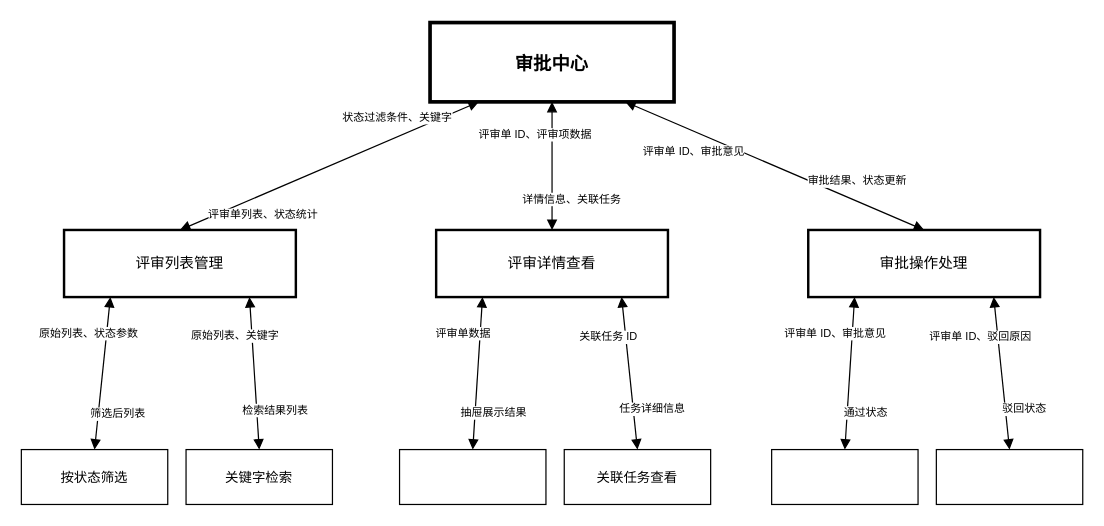
This 1104x526 diagram has some shape labels left out. The shapes that lost their labels are listed below. From the top down, each one's centre as x and y in pixels, then its label:
(472,476): 详情抽屉展示
(844,476): 通过审批
(1009,476): 驳回审批
